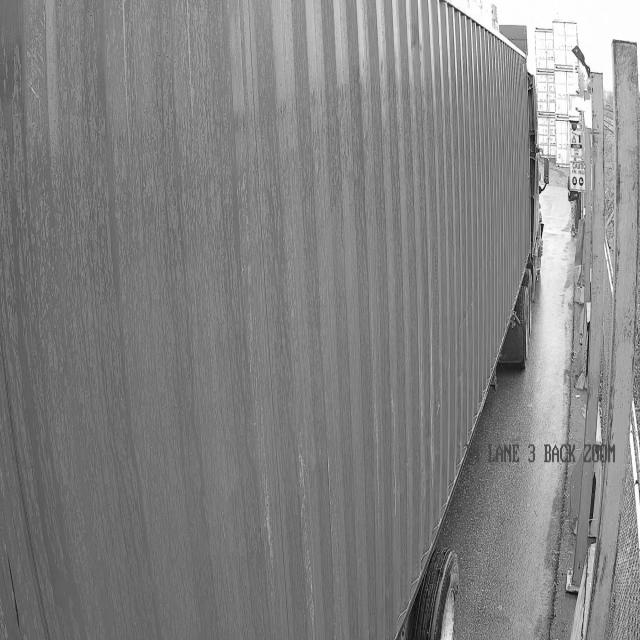truck_with_container: (0, 0, 546, 639)
